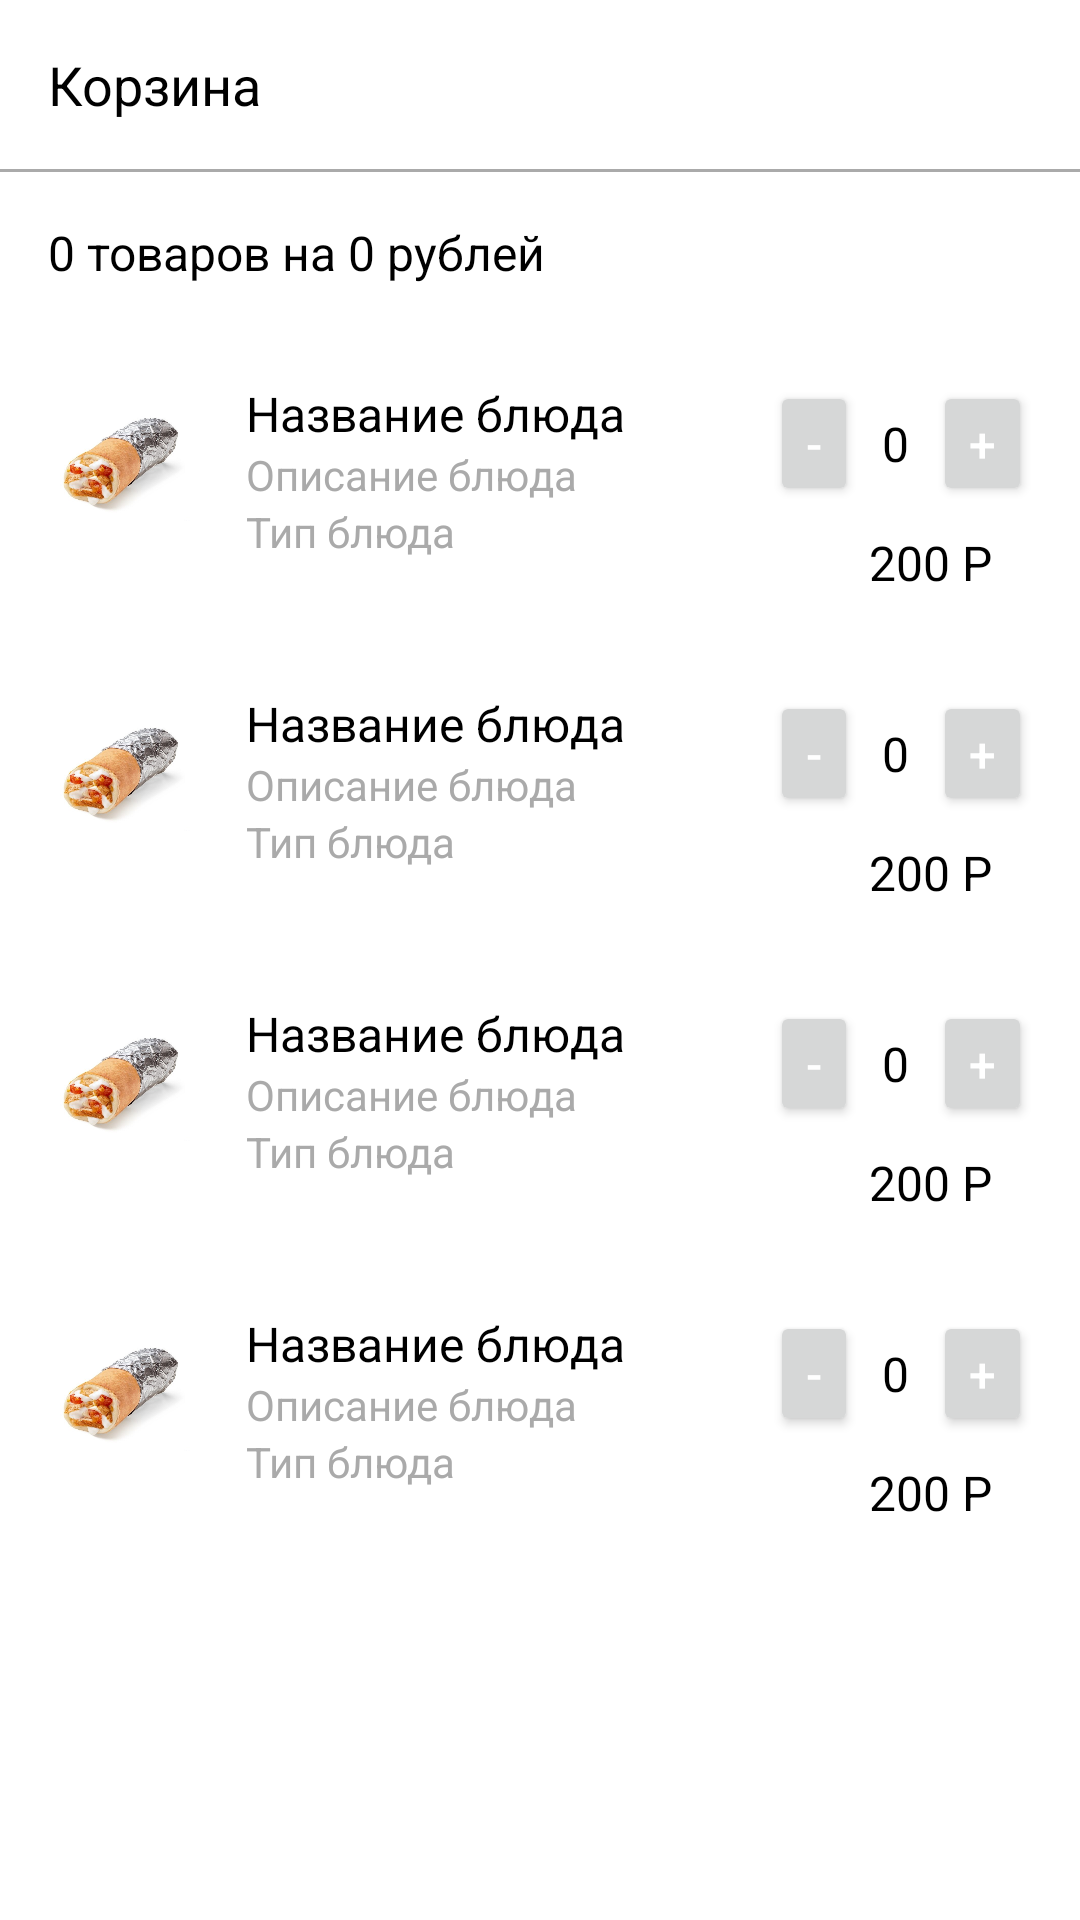

Where to tap for icons on this 1080px x 1920px app screen, as (x=x, y=y):
dodster: (x=121, y=464), (x=121, y=774), (x=121, y=1084), (x=121, y=1394)
